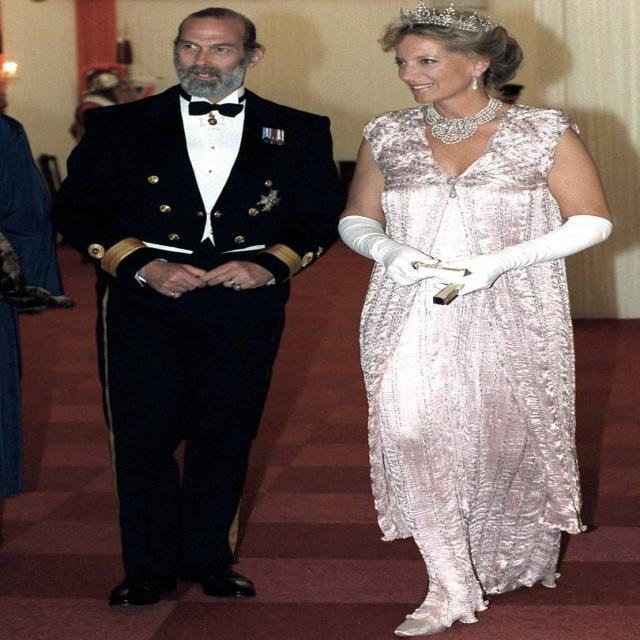Earring: (468, 75, 482, 96)
